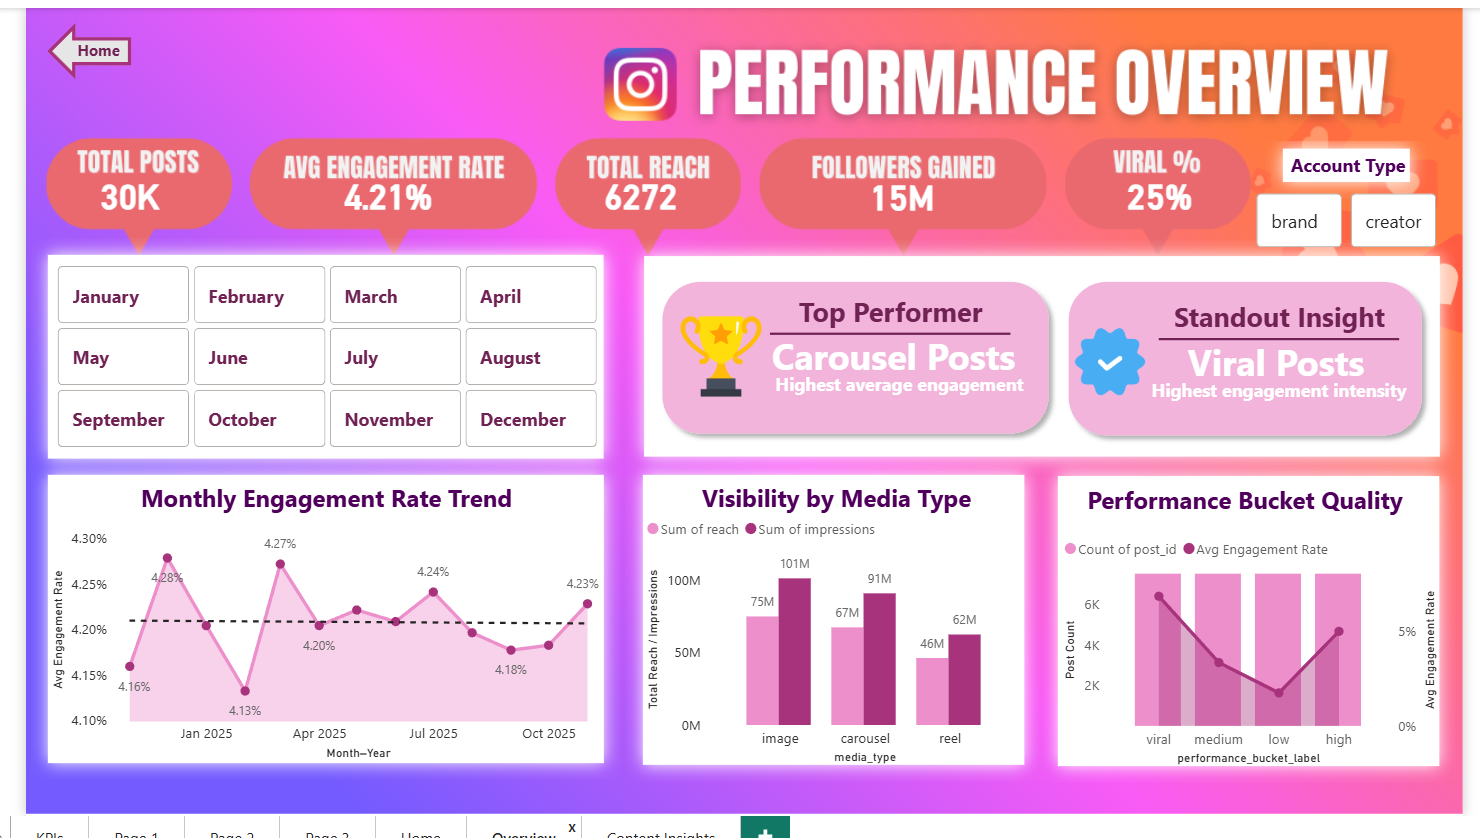

Layout of this report page (visuals, bound fields, positions):
{"tool":"powerbi","page":{"name":"Overview","canvas":[1280,720],"ordinal":1},"visuals":[{"type":"shape","box":[1104.6,110.7,143.1,59.7],"z":0},{"type":"shape","box":[4.9,401.2,525.2,286.7],"z":0,"group":"g1"},{"type":"shape","box":[904.3,402.1,369.7,288.2],"z":0,"group":"g2"},{"type":"shape","box":[535,206.1,738.7,208.6],"z":1000},{"type":"lineChart","title":"Engagement Trend Over Time","fields":{"Category":["Clean_Data.post_date.Variation.Date Hierarchy.Year","Clean_Data.post_date.Variation.Date Hierarchy.Month"],"Y":["Key measures.Avg Engagement Rate"]},"box":[18.2,459.5,511.4,215.8],"z":1000,"group":"g1"},{"type":"lineStackedColumnComboChart","title":"Engagement Trend Over Time","fields":{"Y":["CountNonNull(Clean_Data.post_id)"],"Y2":["Key measures.Avg Engagement Rate"],"Category":["Clean_Data.performance_bucket_label"]},"box":[919.4,462.5,342.6,217.3],"z":1000,"group":"g2"},{"type":"shape","box":[534.6,400.6,369.7,288.2],"z":2000},{"type":"textbox","box":[18.4,416.9,499.4,42.9],"z":2000,"group":"g1"},{"type":"textbox","box":[919.4,418.7,332,43.8],"z":2000,"group":"g2"},{"type":"shape","box":[5,205.2,524.9,211.5],"z":3000},{"type":"textbox","box":[1100.9,123.1,153,39.8],"z":4000},{"type":"card","fields":{"Values":["Key measures.Avg Engagement Rate"]},"box":[271.2,139.9,101.8,52.8],"z":5000},{"type":"card","fields":{"Values":["Key measures.Total Followers Gained"]},"box":[715.3,141.1,128.8,52.8],"z":6000},{"type":"textbox","box":[548.4,415.8,346,44.2],"z":6000,"group":"g4"},{"type":"card","fields":{"Values":["Key measures.Viral Rate"]},"box":[944.8,139.9,128.8,52.8],"z":7000},{"type":"card","fields":{"Values":["Key measures.Total Posts"]},"box":[41.7,139.9,103.1,52.8],"z":8000},{"type":"clusteredColumnChart","fields":{"Y":["Sum(Clean_Data.reach)","Sum(Clean_Data.impressions)"],"Category":["Clean_Data.media_type"]},"box":[547.2,444,341.1,234.4],"z":8000,"group":"g4"},{"type":"card","fields":{"Values":["Key measures.Avg Reach"]},"box":[496.9,139.9,101.8,52.8],"z":9000},{"type":"group","id":"g1","title":"Group 1","box":[4.9,401.2,525.2,286.7],"z":10000},{"type":"group","id":"g2","title":"Group 2","box":[904.3,402.1,369.7,288.2],"z":11000},{"type":"advancedSlicerVisual","fields":{"Values":["Clean_Data.post_datetime.Variation.Date Hierarchy.Month"]},"box":[23.6,225.2,493.8,171.7],"z":12000},{"type":"shape","box":[919,234.4,332.5,154.6],"z":13000},{"type":"textbox","box":[1017.2,254,200,57.7],"z":14000},{"type":"shape","box":[1009,265.7,214.7,57.7],"z":15000},{"type":"shape","box":[557.3,235.1,362,153],"z":16000,"group":"g3"},{"type":"textbox","box":[975.5,288.3,276.1,69.9],"z":16000},{"type":"textbox","box":[676.3,249.7,191.4,57.1],"z":17000,"group":"g3"},{"type":"textbox","box":[997.6,323.9,239.3,42.9],"z":17000},{"type":"image","box":[576.9,247.2,82.2,126.3],"z":18000,"group":"g3"},{"type":"image","box":[930.1,254,69.9,122.7],"z":18000},{"type":"shape","box":[18.4,13.5,74.8,50.3],"z":19000},{"type":"textbox","box":[634.6,282.5,276.1,69.2],"z":19000,"group":"g3"},{"type":"pageNavigator","box":[27,12.3,76.1,50.3],"z":20000},{"type":"textbox","box":[661.6,318.9,239.3,42.5],"z":20000,"group":"g3"},{"type":"group","id":"g3","title":"Group 3","box":[557.3,235.1,362,153],"z":21000},{"type":"shape","box":[661.6,261.8,214.7,57.1],"z":21000,"group":"g3"},{"type":"advancedSlicerVisual","fields":{"Values":["Clean_Data.account_type"]},"box":[1090.9,160.5,171.7,58.5],"z":22000},{"type":"group","id":"g4","title":"Group 4","box":[547.2,415.8,347.2,262.6],"z":23000}]}

Visuals, with their boxes on the page's 1280x720 design canvas (x1, y1, x2, y2). These are canvas units, not pixel positions in the 1480x838 screenshot, which may show the page scaled, cropped or inside an application window:
shape: 1105/111/1248/170
shape: 5/401/530/688
shape: 904/402/1274/690
shape: 535/206/1274/415
"Engagement Trend Over Time" lineChart: 18/460/530/675
"Engagement Trend Over Time" lineStackedColumnComboChart: 919/462/1262/680
shape: 535/401/904/689
textbox: 18/417/518/460
textbox: 919/419/1251/462
shape: 5/205/530/417
textbox: 1101/123/1254/163
card - Key measures.Avg Engagement Rate: 271/140/373/193
card - Key measures.Total Followers Gained: 715/141/844/194
textbox: 548/416/894/460
card - Key measures.Viral Rate: 945/140/1074/193
card - Key measures.Total Posts: 42/140/145/193
clusteredColumnChart - Sum(Clean_Data.reach) x Sum(Clean_Data.impressions): 547/444/888/678
card - Key measures.Avg Reach: 497/140/599/193
"Group 1" group: 5/401/530/688
"Group 2" group: 904/402/1274/690
advancedSlicerVisual - Clean_Data.post_datetime.Variation.Date Hierarchy.Month: 24/225/517/397
shape: 919/234/1252/389
textbox: 1017/254/1217/312
shape: 1009/266/1224/323
shape: 557/235/919/388
textbox: 976/288/1252/358
textbox: 676/250/868/307
textbox: 998/324/1237/367
image: 577/247/659/374
image: 930/254/1000/377
shape: 18/14/93/64
textbox: 635/282/911/352
pageNavigator: 27/12/103/63
textbox: 662/319/901/361
"Group 3" group: 557/235/919/388
shape: 662/262/876/319
advancedSlicerVisual - Clean_Data.account_type: 1091/160/1263/219
"Group 4" group: 547/416/894/678
